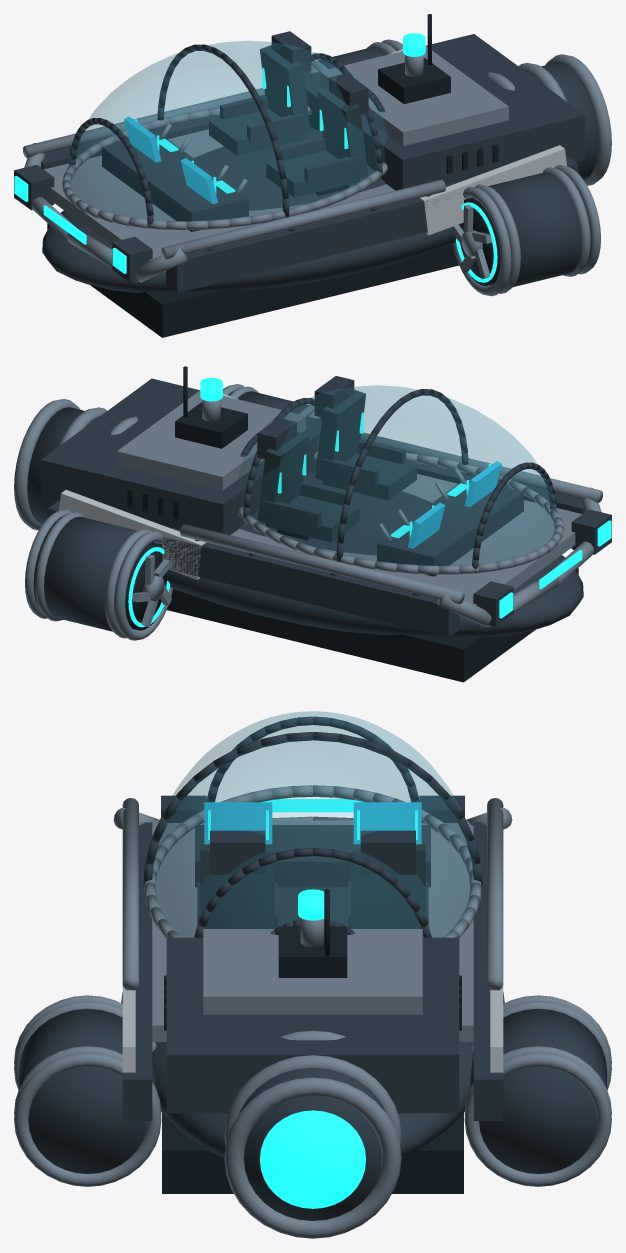
The model's file is two_person_sub.gltf.
3 views of the same model, one above another, from view 1: azimuth 30°, elevation 25°; view 2: azimuth 150°, elevation 25°; view 3: azimuth 270°, elevation 25° (orthographic). The views are drawn at different scales.
Visible parts, largest first — view 1: Canopy transparent glass, Rear deck, Main pressure hull, Long side sill, Lower keel, Cabin floor, Rear raised armor, Side thruster housing, Control dashboard, Side safety rail, Side white armor, Seat back (+31 smaller); view 2: Canopy transparent glass, Rear deck, Main pressure hull, Long side sill.001, Lower keel, Cabin floor, Rear raised armor, Side thruster housing.001, Control dashboard, Side safety rail.001, Side white armor.001, Seat back.001 (+31 smaller); view 3: Canopy transparent glass, Rear deck, Rear raised armor, Side thruster housing, Side thruster housing.001, Cabin floor, Rear engine ring.002, Rear exhaust glow, Lower keel, Rear main engine, Main pressure hull, Control dashboard (+26 smaller).
Part boxes in pixels (box(x1,y1,x2,y2)): Canopy transparent glass: box(67, 41, 387, 221); Rear deck: box(304, 34, 585, 190); Main pressure hull: box(42, 127, 456, 292); Long side sill: box(166, 155, 578, 293); Lower keel: box(47, 223, 459, 337); Cabin floor: box(43, 129, 395, 272); Rear raised armor: box(319, 46, 508, 145); Side thruster housing: box(488, 170, 592, 286); Control dashboard: box(102, 133, 248, 231); Side safety rail: box(161, 179, 445, 259); Side white armor: box(420, 145, 566, 235); Seat back: box(317, 87, 367, 180); Canopy transparent glass: box(238, 385, 558, 566); Rear deck: box(40, 378, 321, 535); Main pressure hull: box(166, 472, 583, 637); Long side sill.001: box(47, 500, 459, 637); Lower keel: box(167, 568, 578, 682); Cabin floor: box(231, 474, 581, 617); Rear raised armor: box(117, 390, 306, 490); Side thruster housing.001: box(33, 515, 136, 631); Control dashboard: box(377, 478, 523, 576); Side safety rail.001: box(180, 524, 464, 604); Side white armor.001: box(59, 490, 206, 579); Seat back.001: box(257, 431, 308, 525); Canopy transparent glass: box(148, 711, 477, 936); Rear deck: box(166, 937, 459, 1113); Rear raised armor: box(203, 929, 422, 1014); Side thruster housing: box(19, 1008, 155, 1173); Side thruster housing.001: box(470, 1008, 606, 1173); Cabin floor: box(152, 820, 473, 1041); Rear engine ring.002: box(224, 1077, 401, 1238); Rear exhaust glow: box(260, 1110, 365, 1208); Lower keel: box(162, 1112, 463, 1193); Rear main engine: box(239, 1067, 386, 1220); Main pressure hull: box(121, 887, 504, 1157); Control dashboard: box(195, 825, 430, 887).
Size of the model in its own units: 9.71 by 3.82 by 7.22.
